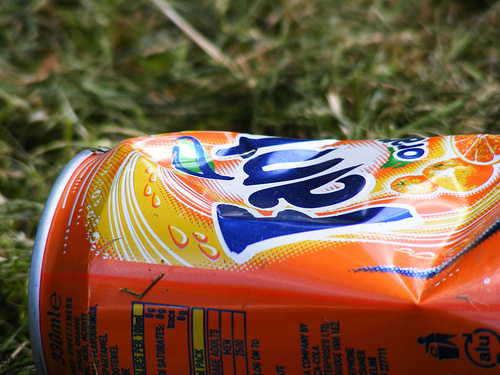litter: (27, 131, 500, 375)
